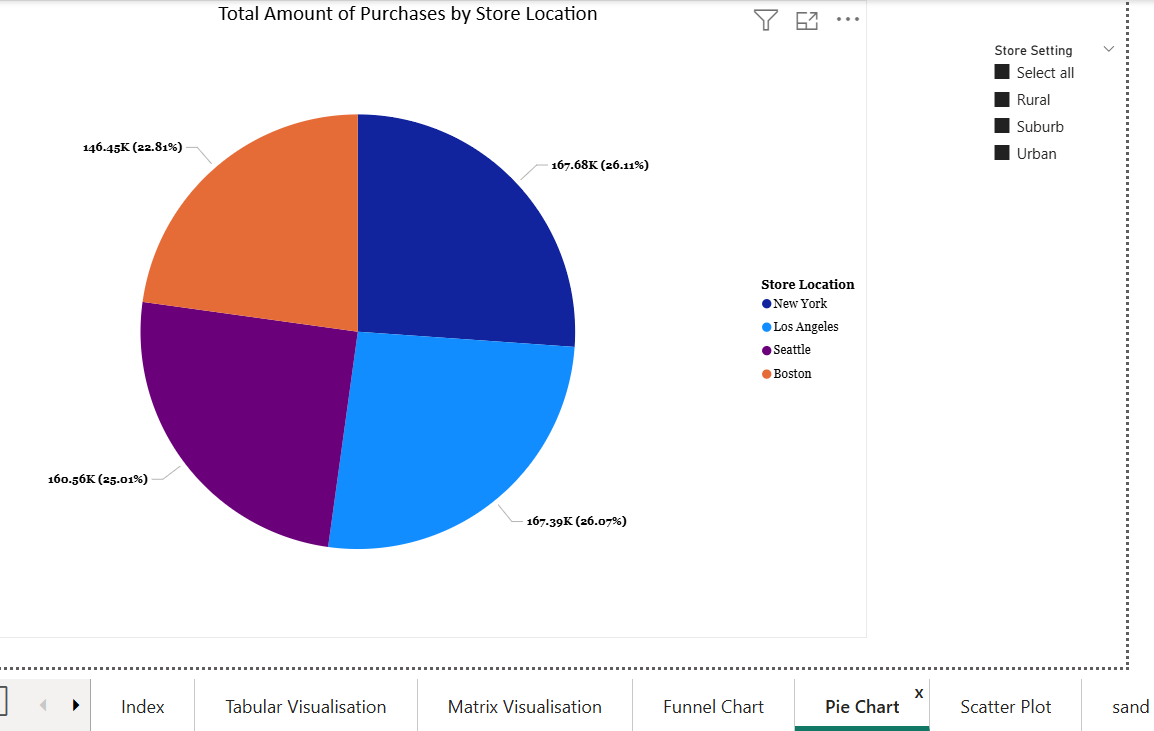

The page's visual inventory and layout, read from the dashboard file:
{"tool":"powerbi","page":{"name":"Pie Chart","canvas":[1280,720],"ordinal":4},"visuals":[{"type":"pieChart","title":"Total Amount of Purchases by Store Location","fields":{"Y":["Sum(Student Survey.Total Amount of Purchases)"],"Category":["Student Survey.Store Location"]},"box":[9.7,0,991,688.2],"z":0},{"type":"slicer","fields":{"Values":["Student Survey.Store Setting"]},"box":[1125.4,40.5,155.4,207.3],"z":1000}]}

Visuals, with their boxes on the page's 1280x720 design canvas (x1, y1, x2, y2). These are canvas units, not pixel positions in the 1154x731 screenshot, which may show the page scaled, cropped or inside an application window:
"Total Amount of Purchases by Store Location" pieChart: [10,0,1001,688]
slicer - Student Survey.Store Setting: [1125,40,1281,248]
